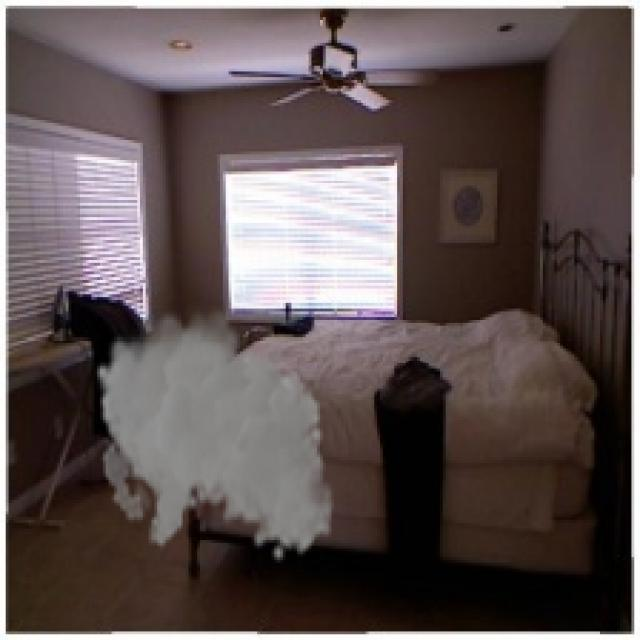Smoke: (94, 300, 334, 563)
